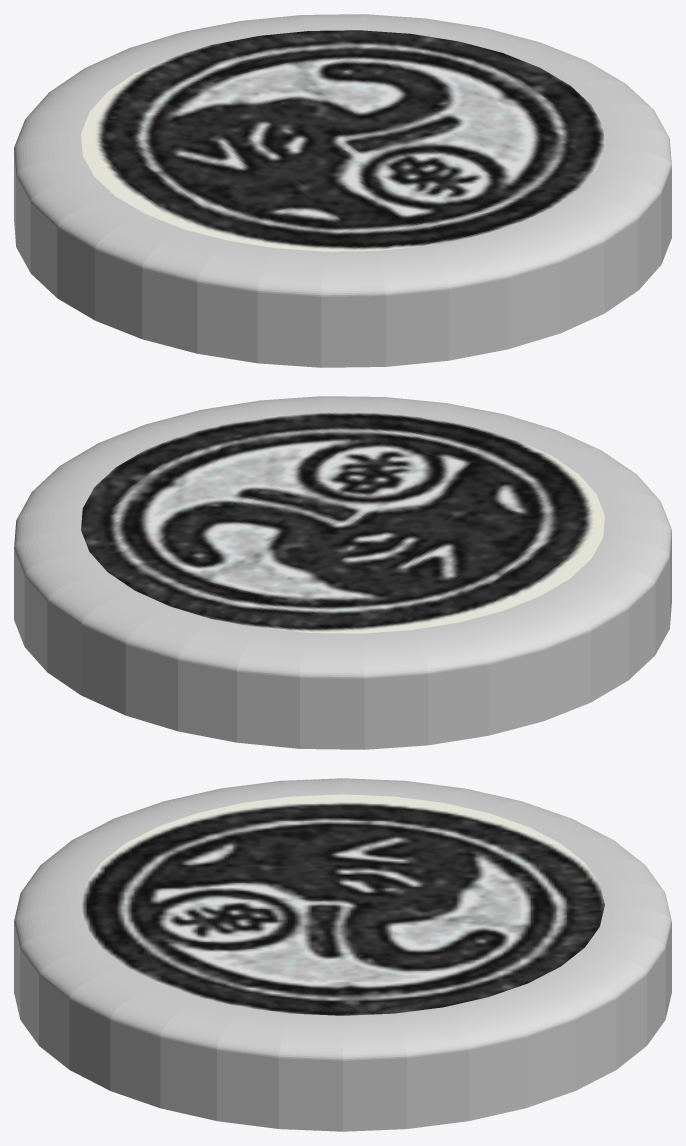
The model's file is Black Elephant.fbx.
3 renders of one model, top to bottom at view 1: azimuth 30°, elevation 25°; view 2: azimuth 150°, elevation 25°; view 3: azimuth 270°, elevation 25°, orthographic.
Visible parts, largest first — view 1: Cylinder.007; view 2: Cylinder.007; view 3: Cylinder.007.
Part boxes in pixels (x1=…): Cylinder.007: x1=14, y1=14, x2=671, y2=367; Cylinder.007: x1=14, y1=396, x2=671, y2=749; Cylinder.007: x1=14, y1=778, x2=671, y2=1131.
Size of the model in its own units: 151 by 22.19 by 151.
Materials: 2 (1 with a texture image).
